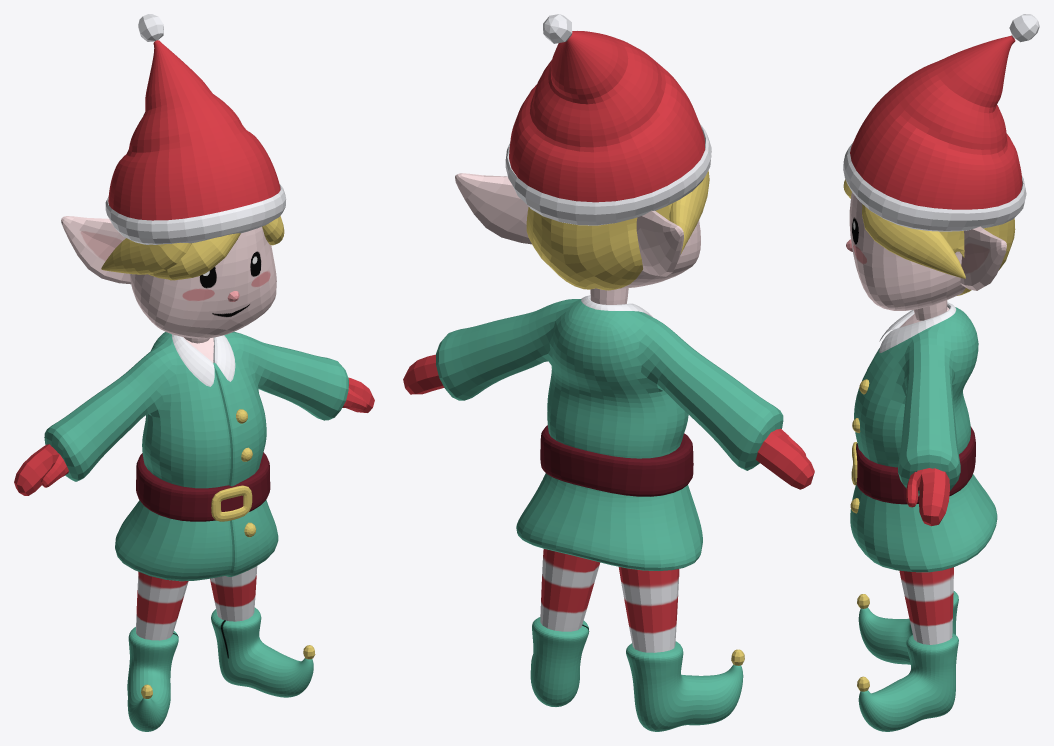
The model's file is elf.obj.
The picture shows the model from 3 angles, left to right: view 1: azimuth 30°, elevation 25°; view 2: azimuth 150°, elevation 25°; view 3: azimuth 270°, elevation 25°; orthographic projection. The views are drawn at different scales.
Visible parts, largest first — view 1: Elf_model2; view 2: Elf_model2; view 3: Elf_model2.
Boxes of the visible parts, left/top/right/bottom form: Elf_model2: left=14, top=14, right=374, bottom=731; Elf_model2: left=403, top=14, right=814, bottom=731; Elf_model2: left=843, top=14, right=1039, bottom=731.
Size of the model in its own units: 79.13 by 138 by 36.09.
1 material, 1 textured.
